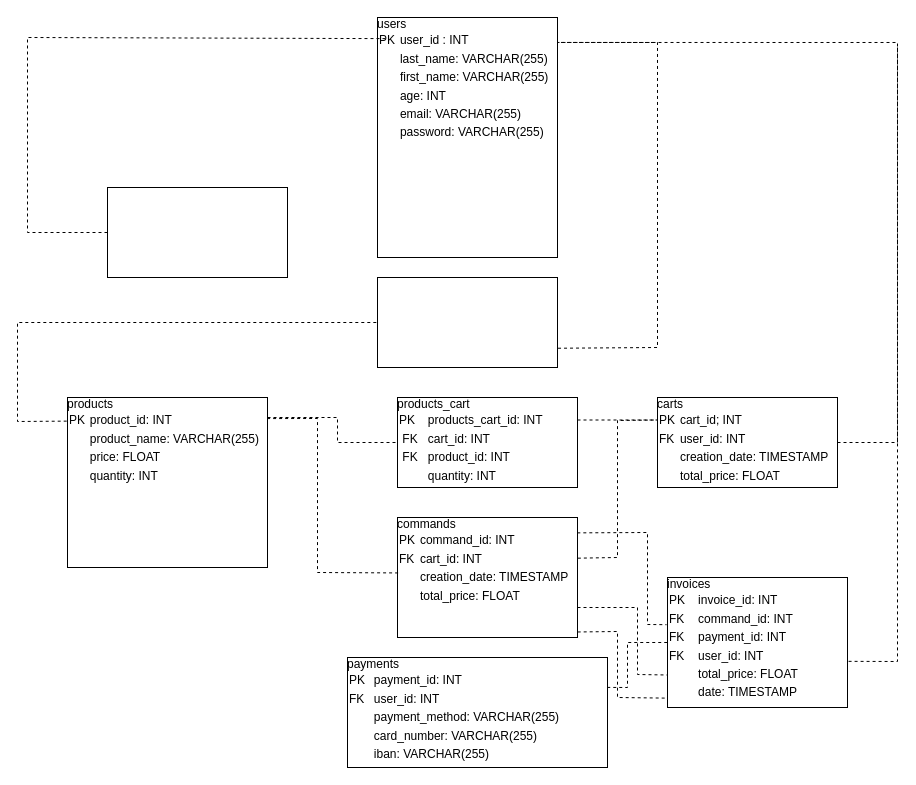
The diagram is 916 pixels wide and 785 high, and some of its shapes have lost their labels. Here are the shapes that lost their labels. From the top down, the box of each, then its label:
(106, 186, 288, 278): adresses PK adress_id: int FK user_id : int adress : VARCHAR(255)
(376, 276, 558, 368): photos PK photo_id: INT type: VARCHAR(255) FK entity_id: INT image_data: BLOB
